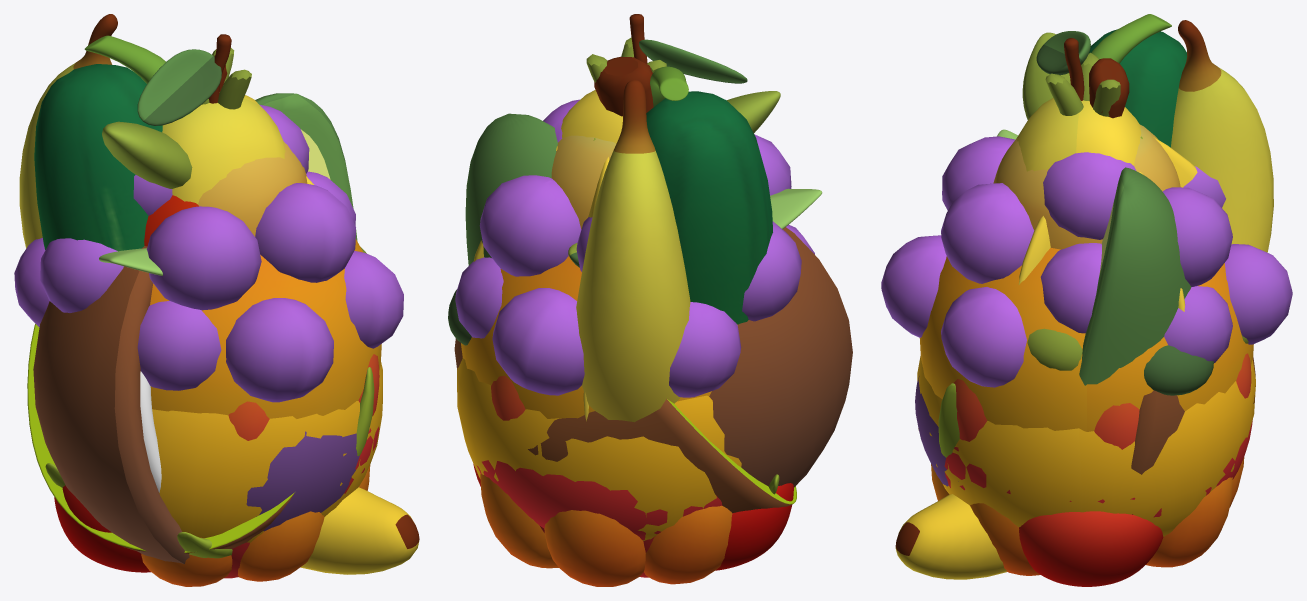
File: Fruit.fbx
3 renders of one model, left to right at view 1: azimuth 30°, elevation 25°; view 2: azimuth 150°, elevation 25°; view 3: azimuth 270°, elevation 25°, orthographic. The views are drawn at different scales.
Parts seen in each view (by area): view 1: grape, pear, Coconut, cucumber, Mango, Bannanas, mangosteen, Pumpkin, carrot, kiwi, avocado, Cherry (+4 smaller); view 2: grape, Bannanas, Coconut, pear, cucumber, Pumpkin, kiwi, avocado, Mango, Tomato, carrot, Cherry (+4 smaller); view 3: grape, pear, Bannanas, Mango, avocado, Cherry, carrot, Pumpkin, mangosteen, cucumber, Bell pepper, Coconut (+4 smaller).
Part boxes in pixels (bbox=[...]): grape: bbox=[14, 56, 403, 402]; pear: bbox=[137, 34, 382, 542]; Coconut: bbox=[33, 246, 189, 564]; cucumber: bbox=[34, 64, 162, 251]; Mango: bbox=[102, 121, 381, 418]; Bannanas: bbox=[19, 14, 419, 574]; mangosteen: bbox=[246, 247, 366, 531]; Pumpkin: bbox=[141, 465, 370, 586]; carrot: bbox=[197, 47, 307, 236]; kiwi: bbox=[27, 324, 294, 553]; avocado: bbox=[255, 93, 357, 240]; Cherry: bbox=[54, 485, 150, 572]; grape: bbox=[455, 56, 814, 397]; Bannanas: bbox=[576, 80, 690, 422]; Coconut: bbox=[454, 227, 852, 487]; pear: bbox=[457, 14, 747, 540]; cucumber: bbox=[646, 91, 772, 324]; Pumpkin: bbox=[480, 474, 732, 586]; kiwi: bbox=[528, 399, 796, 513]; avocado: bbox=[465, 113, 557, 265]; Mango: bbox=[461, 91, 780, 418]; Tomato: bbox=[476, 460, 722, 540]; carrot: bbox=[551, 37, 666, 228]; Cherry: bbox=[473, 464, 793, 570]; grape: bbox=[881, 58, 1292, 387]; pear: bbox=[917, 31, 1255, 536]; Bannanas: bbox=[895, 20, 1273, 579]; Mango: bbox=[919, 32, 1253, 431]; avocado: bbox=[1079, 167, 1191, 385]; Cherry: bbox=[1019, 511, 1163, 586]; carrot: bbox=[993, 52, 1180, 249]; Pumpkin: bbox=[931, 457, 1244, 575]; mangosteen: bbox=[915, 328, 1248, 486]; cucumber: bbox=[1089, 29, 1187, 147]; Bell pepper: bbox=[953, 353, 1251, 449]; Coconut: bbox=[1131, 390, 1184, 474].
Size of the model in its own units: 26.49 by 40.94 by 30.07.
